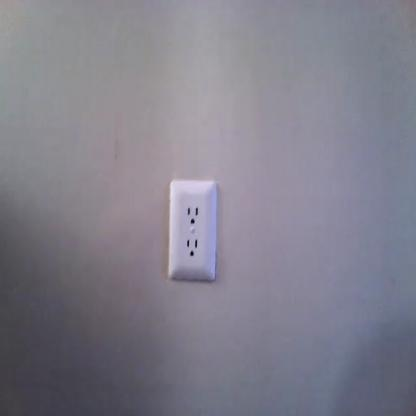OUTLET: (168, 180, 218, 282)
